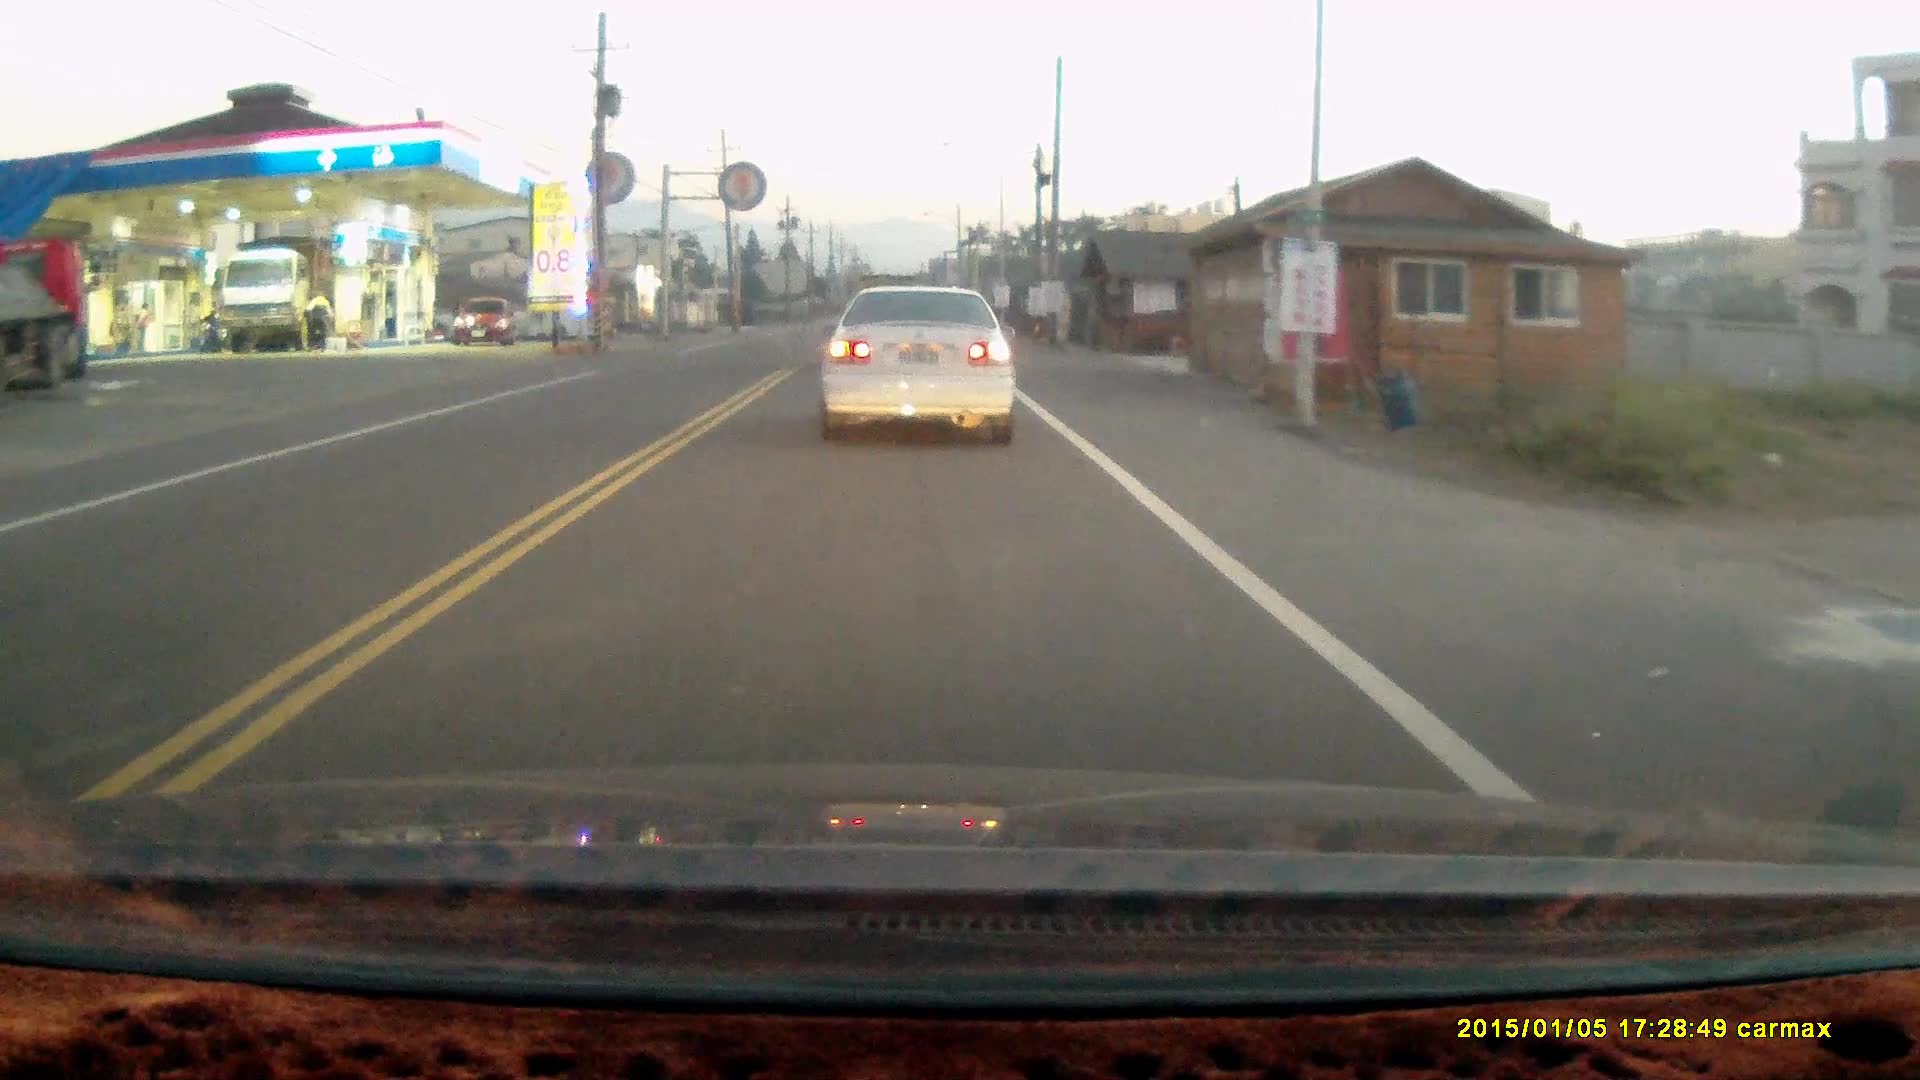pedestrian: (298, 289, 333, 349)
vehicle: (815, 281, 1021, 446), (219, 243, 334, 352), (454, 296, 523, 350)
